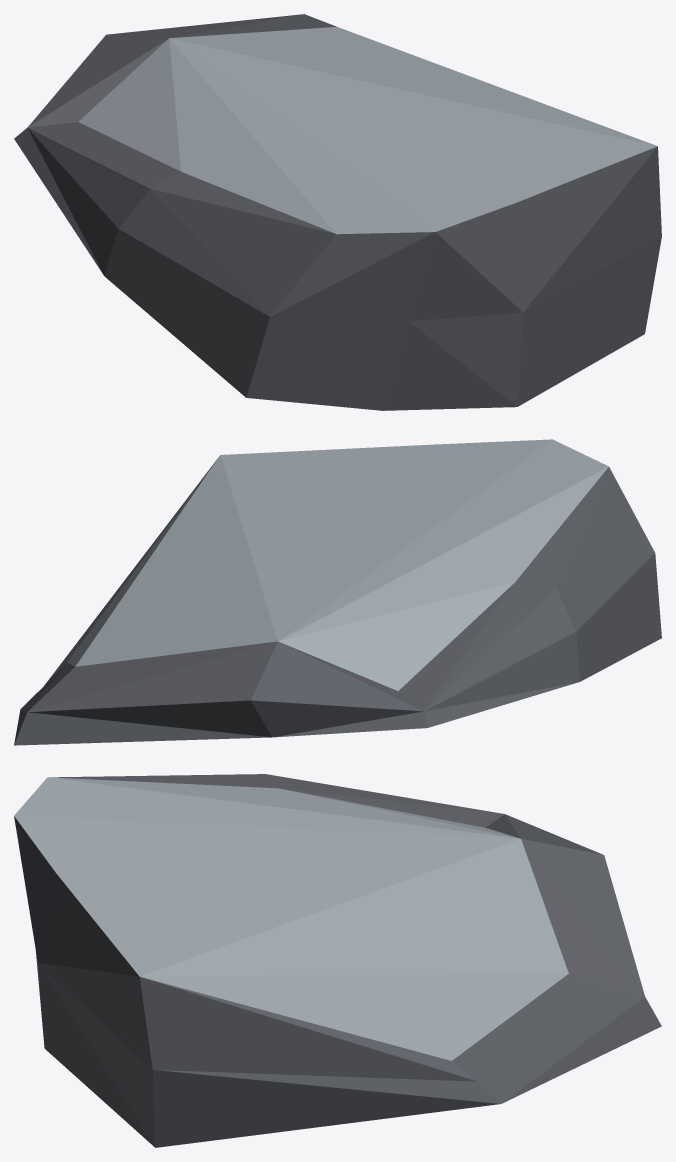
File: XSK_09.FBX
3 renders of one model, top to bottom at view 1: azimuth 30°, elevation 25°; view 2: azimuth 150°, elevation 25°; view 3: azimuth 270°, elevation 25°, orthographic. The views are drawn at different scales.
Parts seen in each view (by area): view 1: XSK_09; view 2: XSK_09; view 3: XSK_09.
Boxes of the visible parts, x1=… form: XSK_09: x1=14, y1=14, x2=661, y2=410; XSK_09: x1=14, y1=439, x2=661, y2=745; XSK_09: x1=14, y1=774, x2=661, y2=1147.
Bounding box in the file's own units: 0.9628 × 0.4396 × 1.23.
